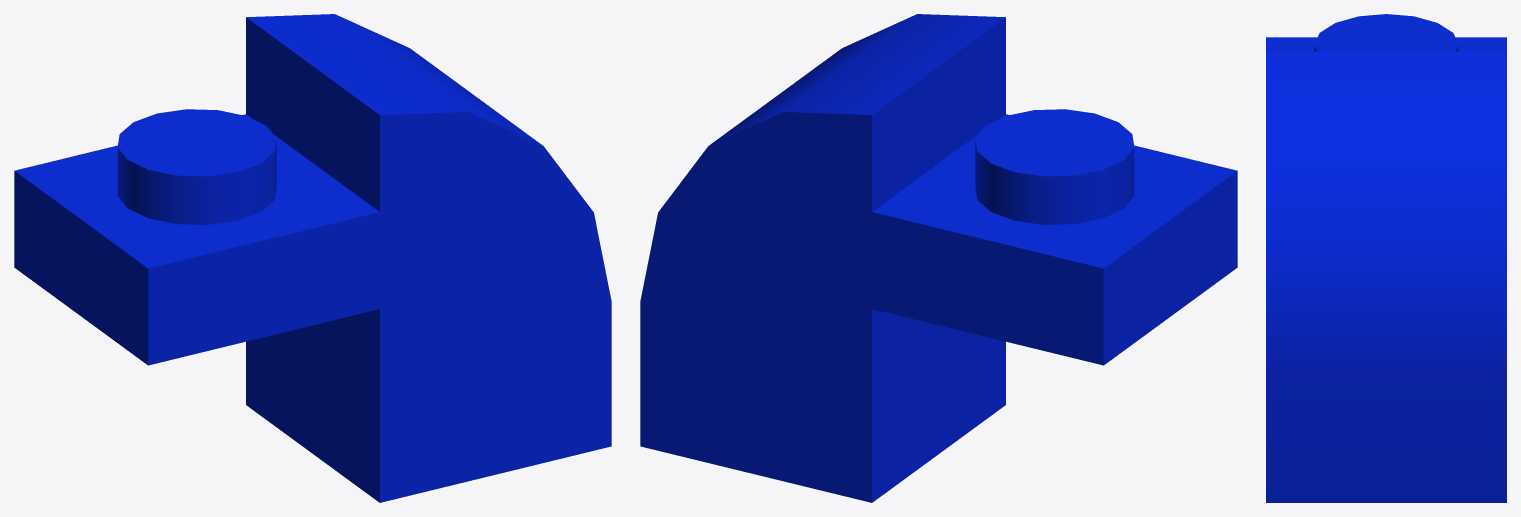
Rendered from curved_slope_2x1_6091.glb.
3 renders of one model, left to right at view 1: azimuth 30°, elevation 25°; view 2: azimuth 150°, elevation 25°; view 3: azimuth 270°, elevation 25°, orthographic. The views are drawn at different scales.
Visible parts, largest first — view 1: 00001_6091.dat; view 2: 00001_6091.dat; view 3: 00001_6091.dat.
Part boxes in pixels (bbox=[...]): 00001_6091.dat: bbox=[14, 14, 611, 502]; 00001_6091.dat: bbox=[640, 14, 1237, 502]; 00001_6091.dat: bbox=[1266, 14, 1506, 502].
Size of the model in its own units: 1.6 by 1.28 by 0.8.
